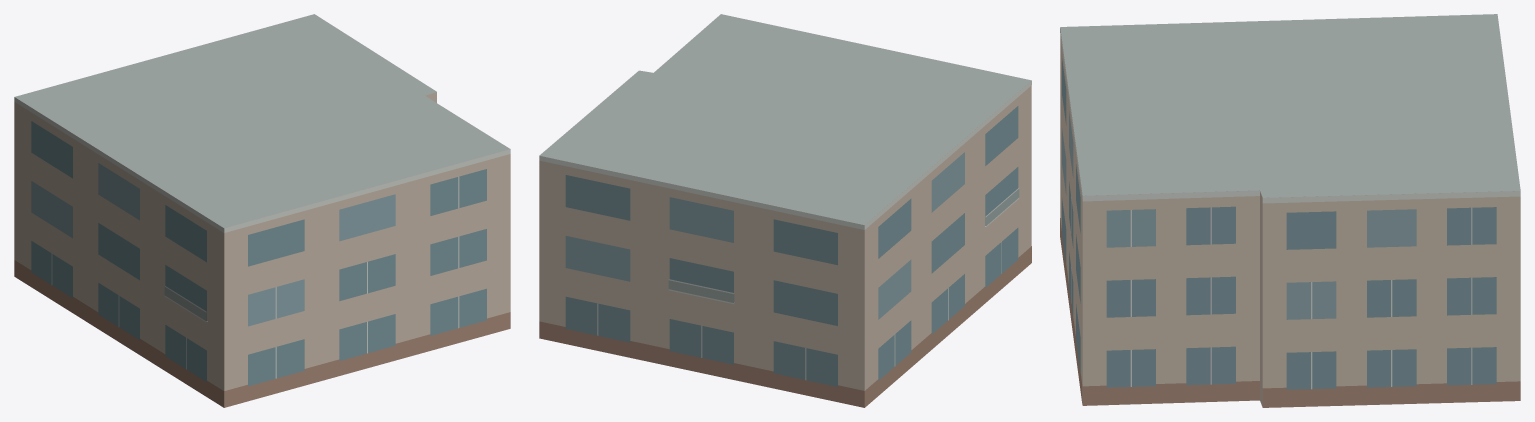
Rendered from survey-upis-33036588.glb.
The picture shows the model from 3 angles, left to right: view 1: azimuth 30°, elevation 25°; view 2: azimuth 150°, elevation 25°; view 3: azimuth 270°, elevation 25°; orthographic projection. The views are drawn at different scales.
Visible parts, largest first — view 1: survey-upis-33036588.tmp; view 2: survey-upis-33036588.tmp; view 3: survey-upis-33036588.tmp.
Boxes of the visible parts, box(x1,y1,x2,y2) form: survey-upis-33036588.tmp: box(14, 14, 510, 407); survey-upis-33036588.tmp: box(539, 14, 1031, 407); survey-upis-33036588.tmp: box(1060, 14, 1520, 407).
Size of the model in its own units: 17.19 by 9.15 by 18.2.
